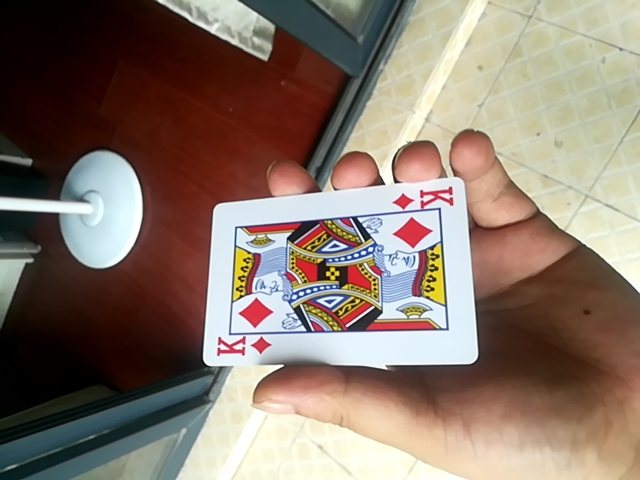fk k: (204, 172, 478, 367)
